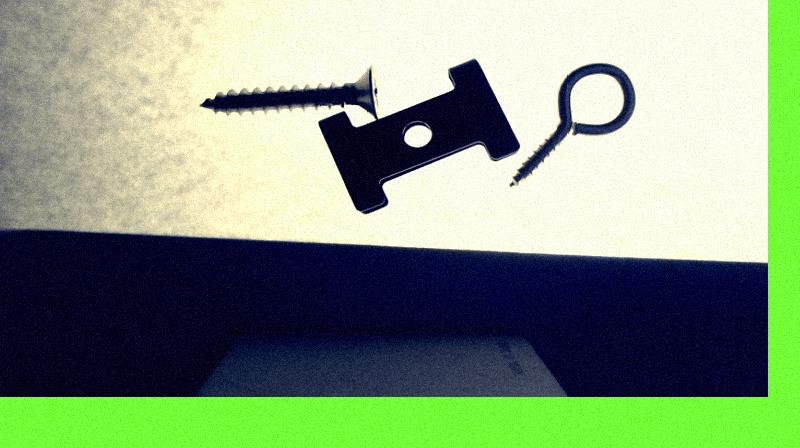O001: (504, 61, 638, 194)
O002: (317, 59, 518, 216)
S001: (197, 64, 381, 116)
